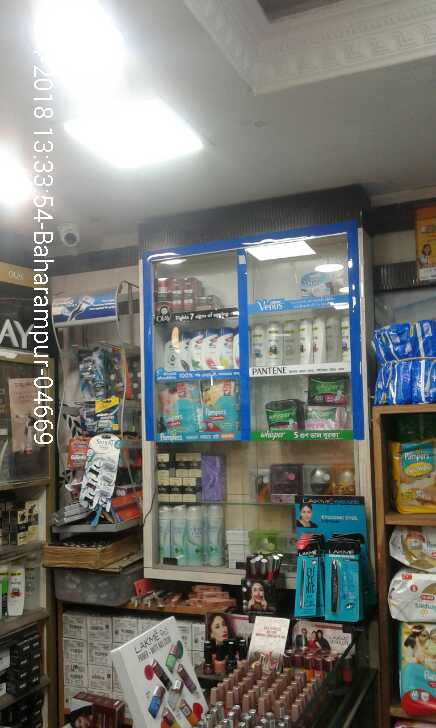gillete: (79, 348, 104, 393), (97, 396, 119, 431), (66, 437, 86, 467), (81, 407, 96, 432)
venus: (91, 456, 113, 529), (301, 270, 332, 297)
